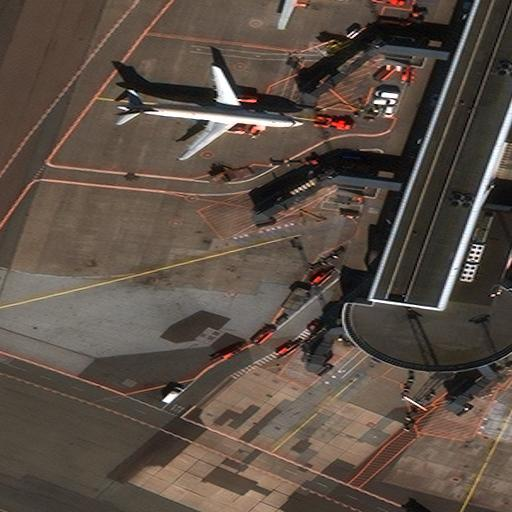Medium Civil Transport: (116, 67, 303, 159), (242, 0, 350, 29)
